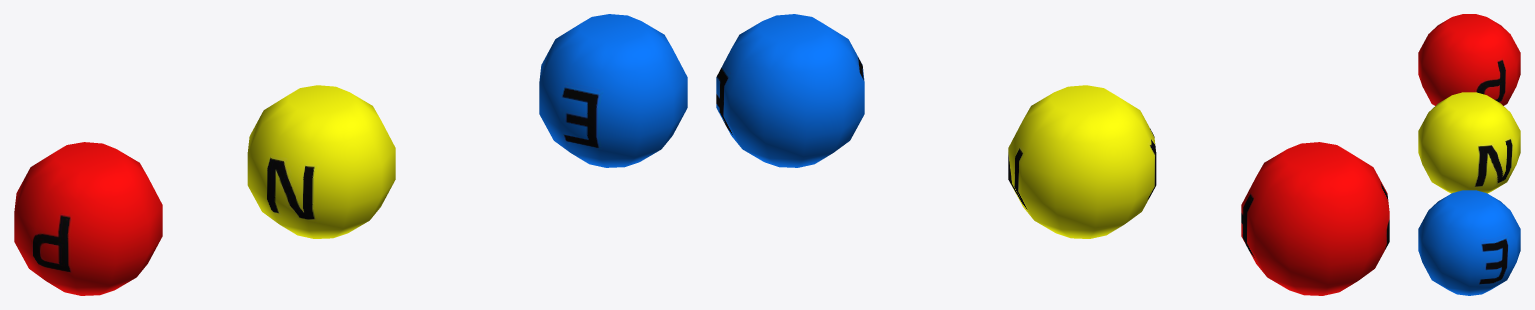
Rendered from npe.fbx.
The picture shows the model from 3 angles, left to right: view 1: azimuth 30°, elevation 25°; view 2: azimuth 150°, elevation 25°; view 3: azimuth 270°, elevation 25°; orthographic projection. The views are drawn at different scales.
Parts seen in each view (by area): view 1: nep1, nep, nep2; view 2: nep1, nep, nep2; view 3: nep1, nep, nep2.
Part boxes in pixels (x1,y1,x2,y2): nep1: (539,14,687,167); nep: (247,85,395,238); nep2: (14,142,162,295); nep1: (716,14,864,167); nep: (1008,85,1156,238); nep2: (1241,142,1389,295); nep1: (1418,190,1520,295); nep: (1418,92,1520,193); nep2: (1418,14,1520,105).
Bounding box in the file's own units: 9.77 × 1.8 × 1.93.
1 material, 1 textured.
